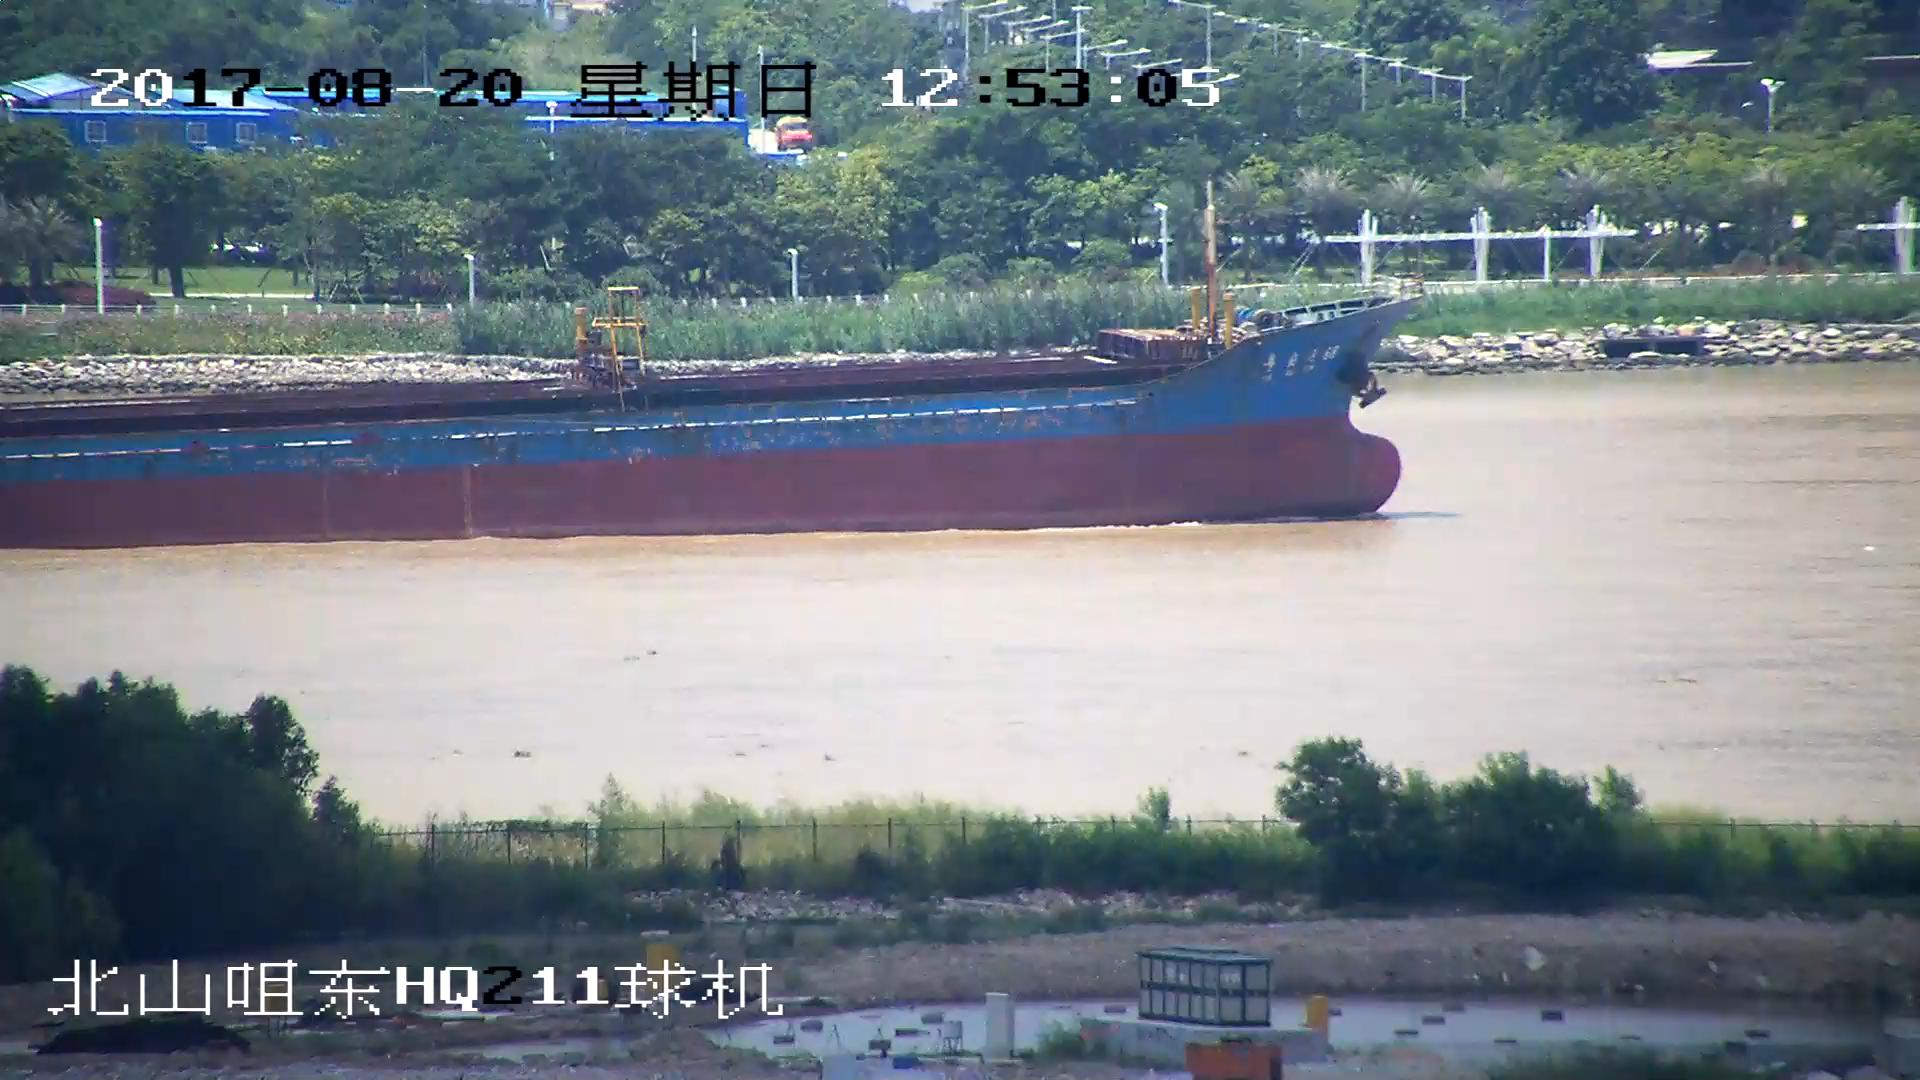general cargo ship: (1, 276, 1436, 551)
